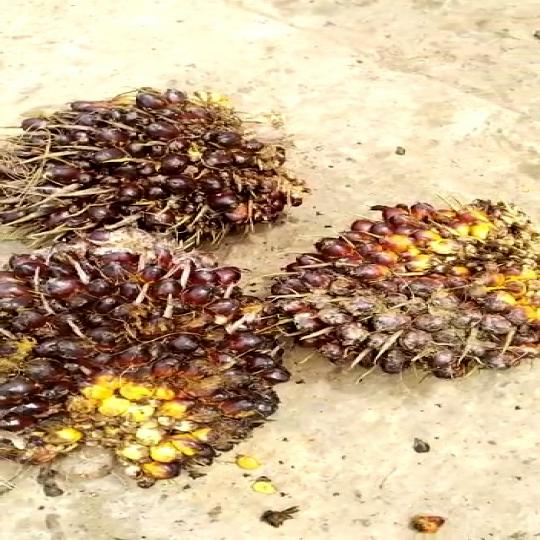kurang masak: (0, 251, 302, 466), (7, 82, 295, 260), (262, 207, 540, 384)
